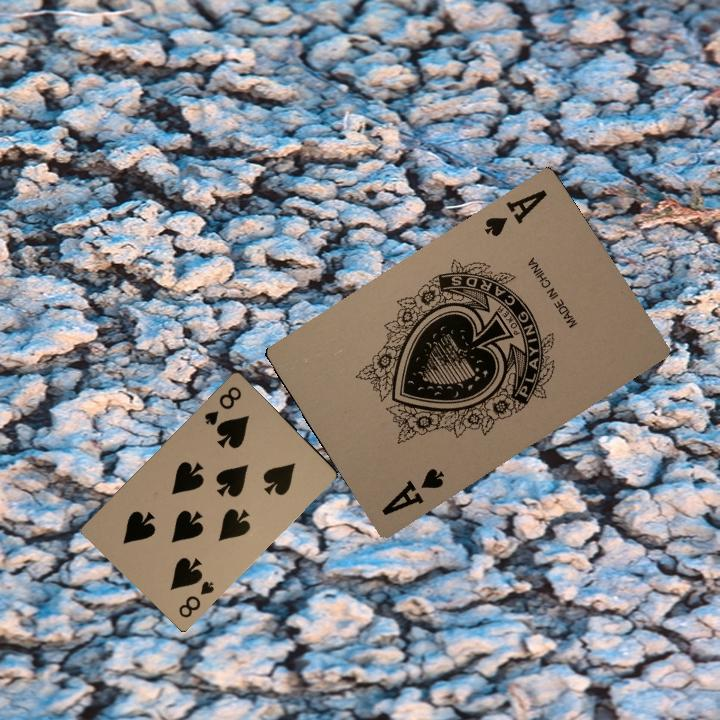8s: (200, 382, 244, 428), (175, 577, 217, 621)
As: (377, 463, 447, 518), (481, 185, 550, 240)
